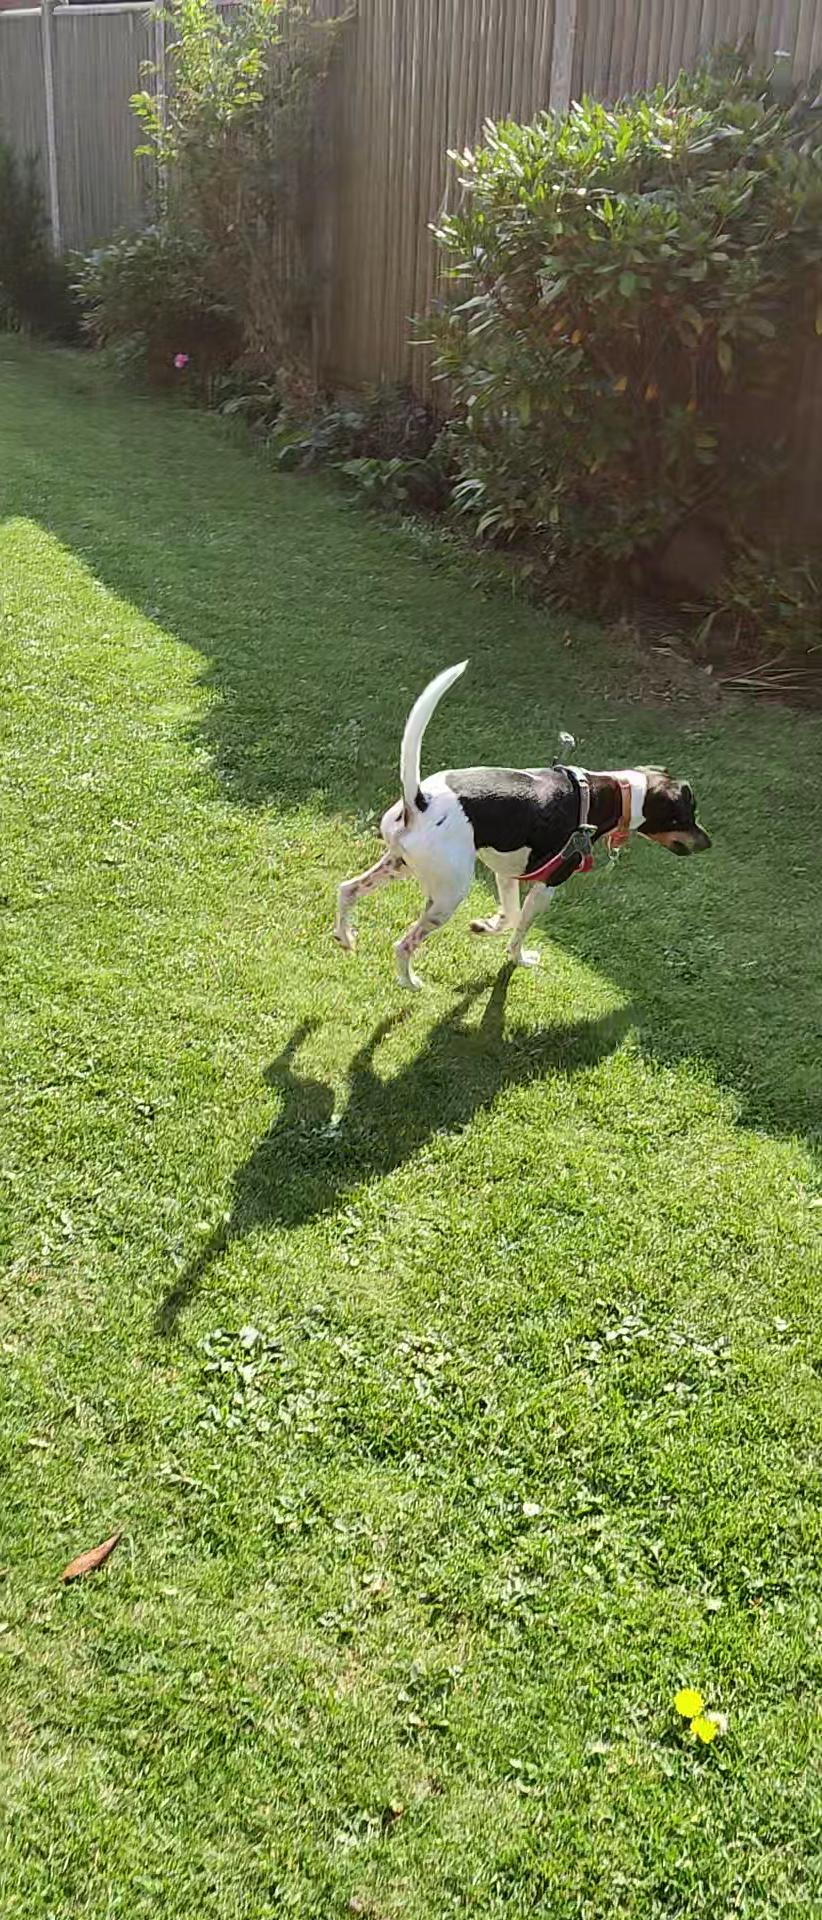Dog: (323, 651, 718, 997)
